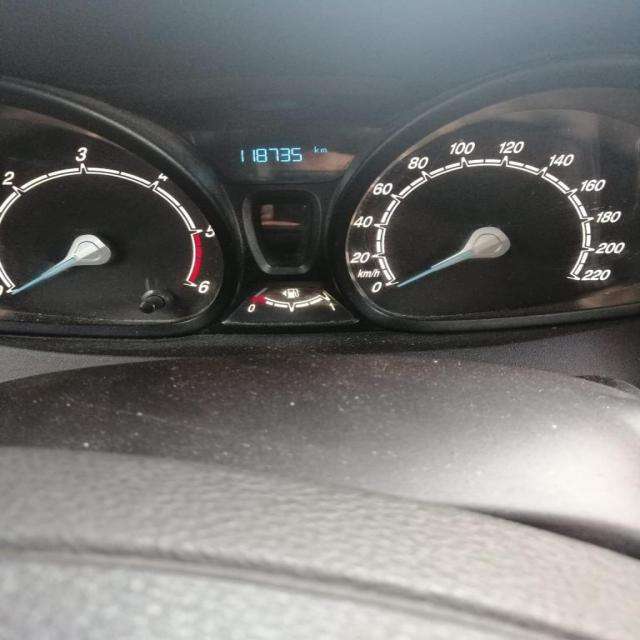odometer: (183, 130, 367, 186)
